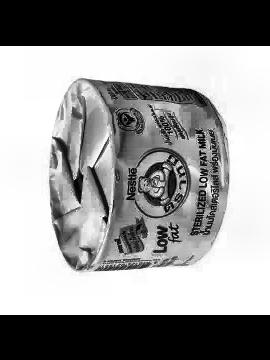can: (14, 61, 252, 277)
